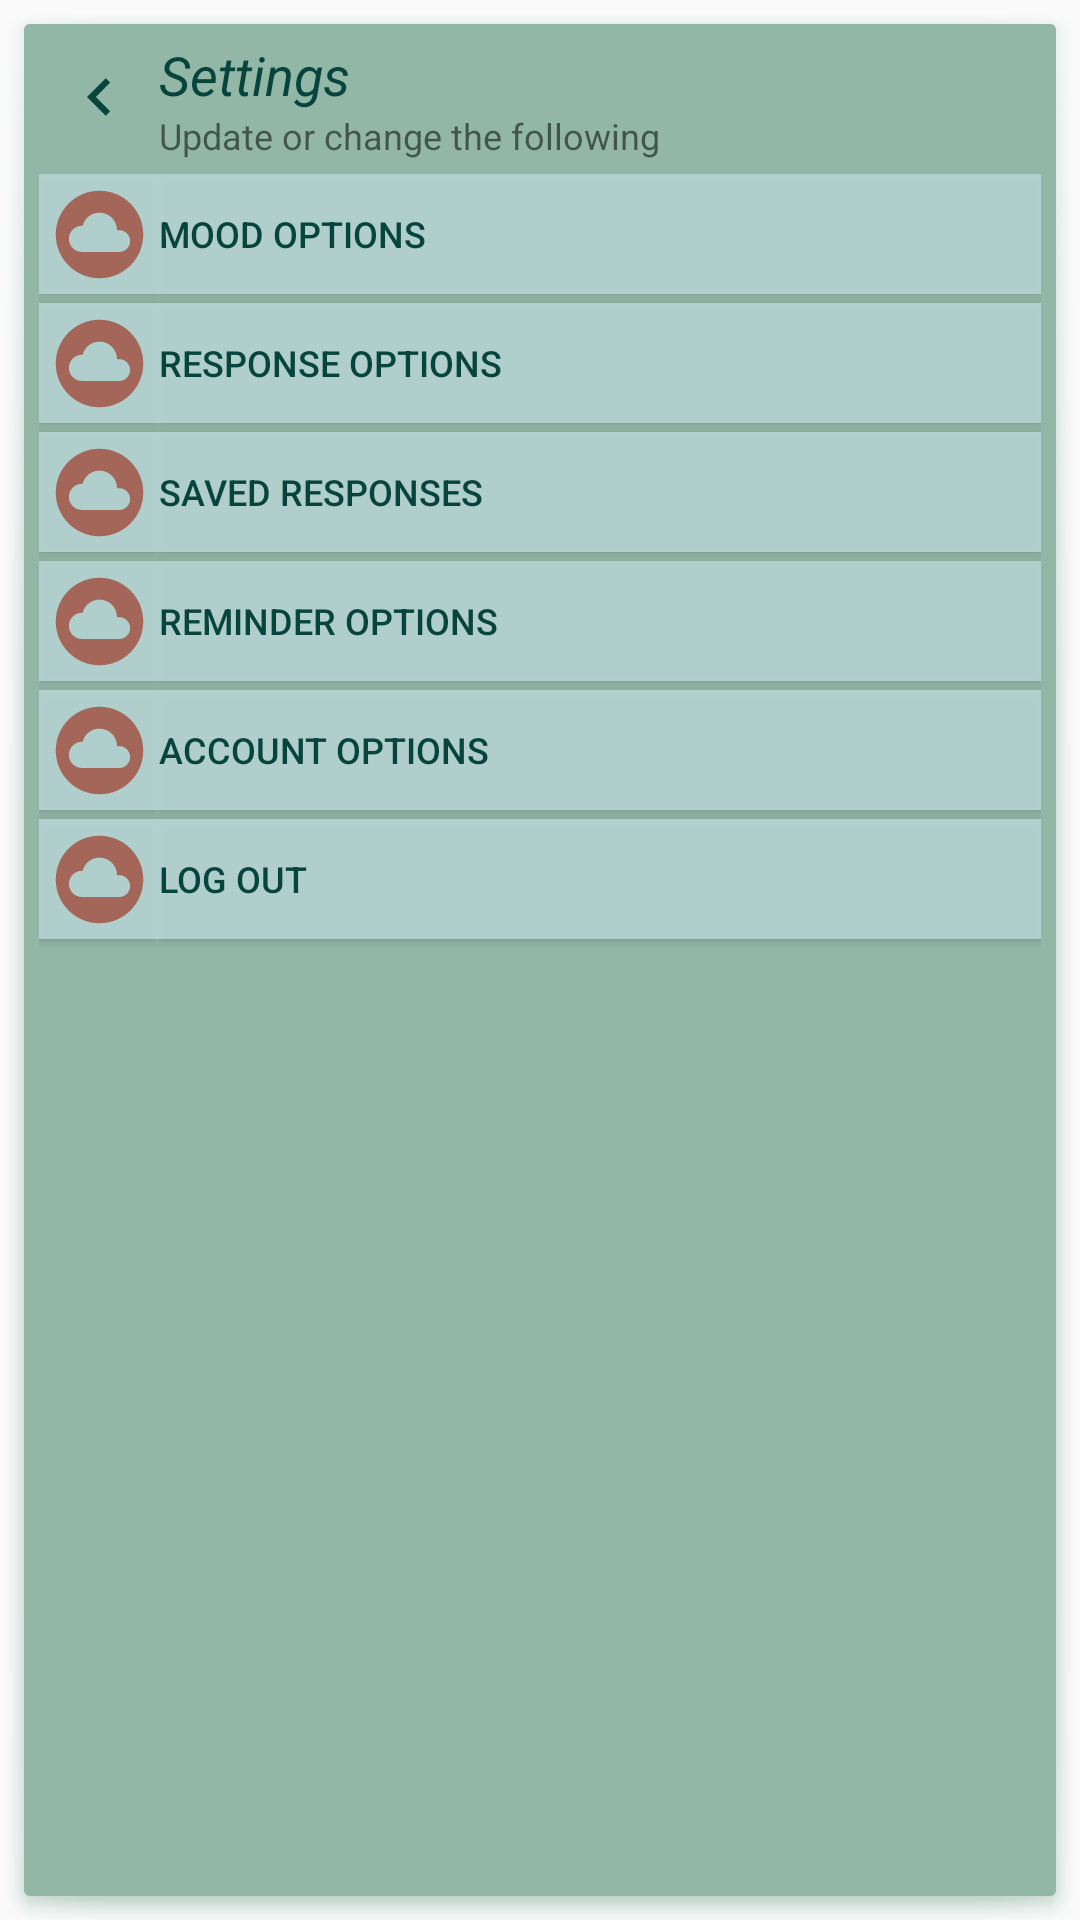

Screen size 1080w x 1920h. Icon name, then its center in pixels as [x,y]:
back arrow: [98,97]
